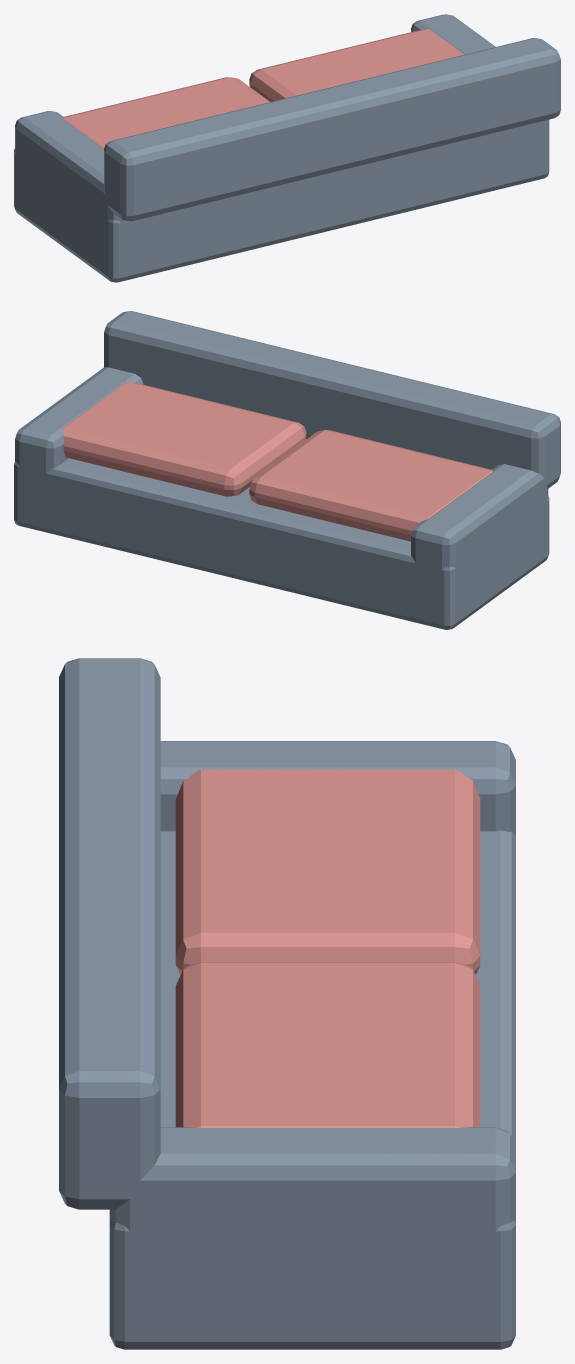
The model's file is sofa.glb.
3 renders of one model, top to bottom at view 1: azimuth 30°, elevation 25°; view 2: azimuth 150°, elevation 25°; view 3: azimuth 270°, elevation 25°, orthographic. The views are drawn at different scales.
Visible parts, largest first — view 1: Encosto, Base, Braco, Almofada.001, Almofada, Braco.001; view 2: Base, Encosto, Almofada.001, Almofada, Braco, Braco.001; view 3: Base, Almofada, Braco.001, Encosto, Almofada.001, Braco.
Boxes of the visible parts, bbox=[...] form: Encosto: bbox=[104, 38, 560, 221]; Base: bbox=[14, 119, 549, 282]; Braco: bbox=[15, 111, 147, 272]; Almofada.001: bbox=[249, 29, 463, 101]; Almofada: bbox=[62, 77, 269, 148]; Braco.001: bbox=[411, 14, 543, 178]; Base: bbox=[14, 439, 549, 629]; Encosto: bbox=[104, 311, 560, 488]; Almofada.001: bbox=[62, 381, 306, 496]; Almofada: bbox=[249, 430, 493, 541]; Braco: bbox=[411, 464, 548, 622]; Braco.001: bbox=[15, 367, 143, 525]; Base: bbox=[109, 830, 515, 1349]; Almofada: bbox=[175, 769, 480, 974]; Braco.001: bbox=[109, 1127, 515, 1337]; Encosto: bbox=[59, 658, 160, 1209]; Almofada.001: bbox=[175, 962, 480, 1127]; Braco: bbox=[160, 741, 515, 835].
Size of the model in its own units: 2 by 0.6 by 0.9.
